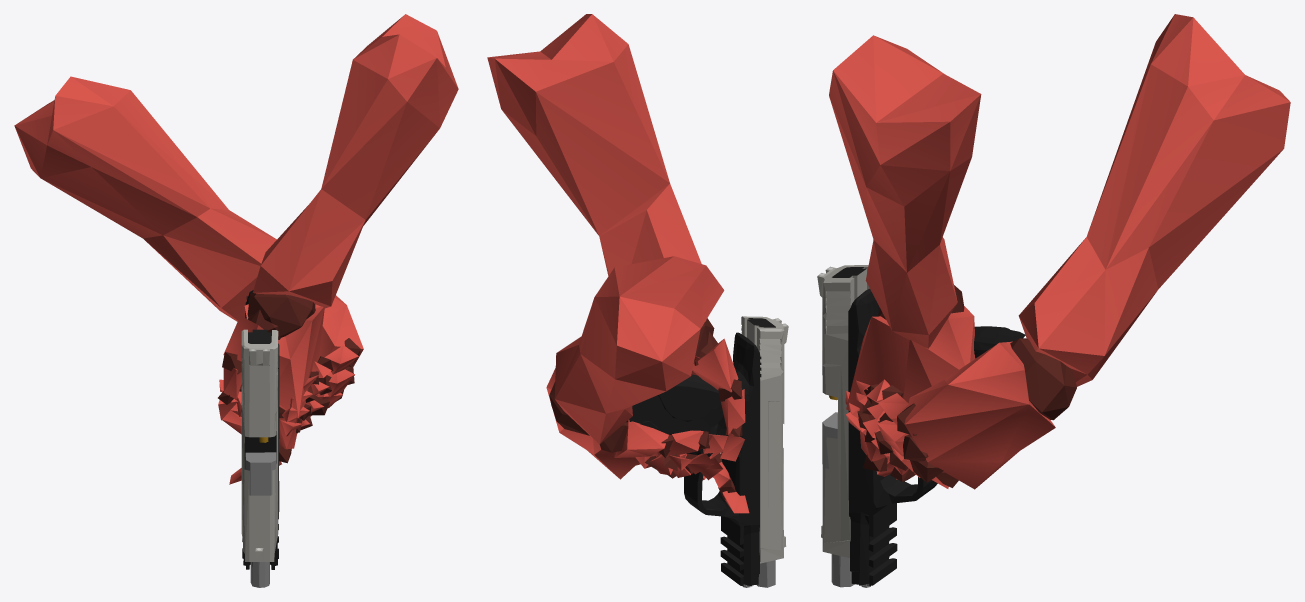
File: M&P9shootExtendLowPoly_000018.obj
3 renders of one model, left to right at view 1: azimuth 30°, elevation 25°; view 2: azimuth 150°, elevation 25°; view 3: azimuth 270°, elevation 25°, orthographic. The views are drawn at different scales.
Visible parts, largest first — view 1: Beta_Surface, slide_平面.002, Beta_Joints, barrel_円.001, body_平面; view 2: Beta_Surface, body_平面, slide_平面.002, Beta_Joints, barrel_円.001; view 3: Beta_Surface, body_平面, slide_平面.002, Beta_Joints, barrel_円.001.
Boxes of the visible parts, bbox=[...] form: Beta_Surface: bbox=[14, 14, 458, 484]; slide_平面.002: bbox=[241, 329, 278, 561]; Beta_Joints: bbox=[218, 292, 360, 463]; barrel_円.001: bbox=[245, 452, 276, 587]; body_平面: bbox=[242, 290, 279, 569]; Beta_Surface: bbox=[487, 14, 749, 513]; body_平面: bbox=[629, 332, 761, 586]; slide_平面.002: bbox=[741, 316, 788, 563]; Beta_Joints: bbox=[549, 318, 742, 499]; barrel_円.001: bbox=[756, 448, 783, 587]; Beta_Surface: bbox=[829, 14, 1290, 489]; body_平面: bbox=[848, 288, 1025, 585]; slide_平面.002: bbox=[817, 265, 869, 558]; Beta_Joints: bbox=[857, 285, 1076, 487]; barrel_円.001: bbox=[822, 412, 854, 587].
Bounding box in the file's own units: 46.82 × 74.49 × 49.93.
